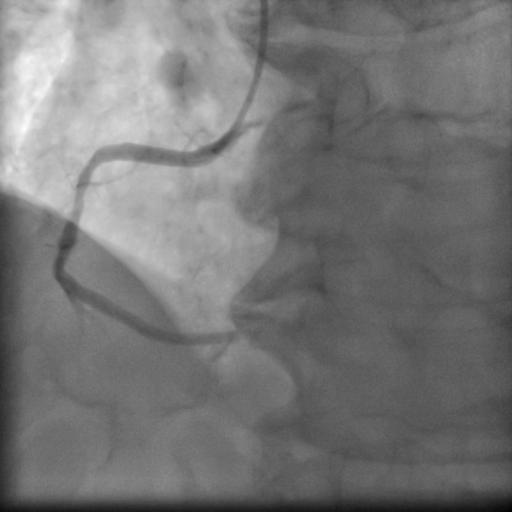Stenosis: (52, 161, 97, 269)
